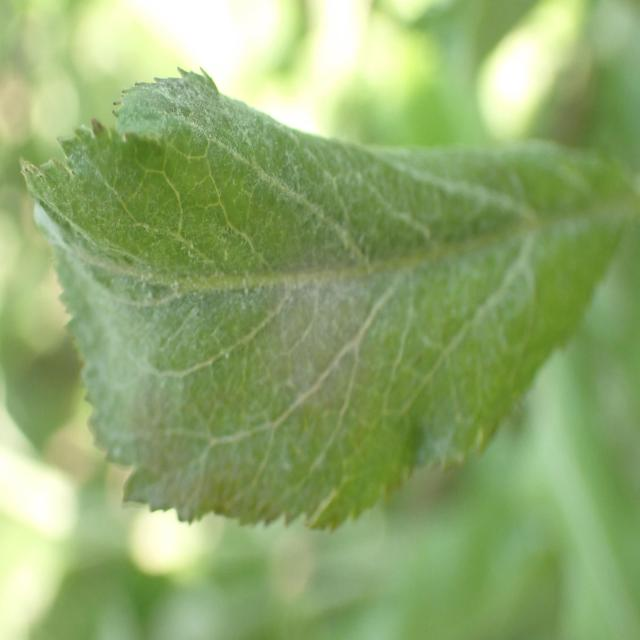Powdery_mildew: (8, 72, 634, 551)
